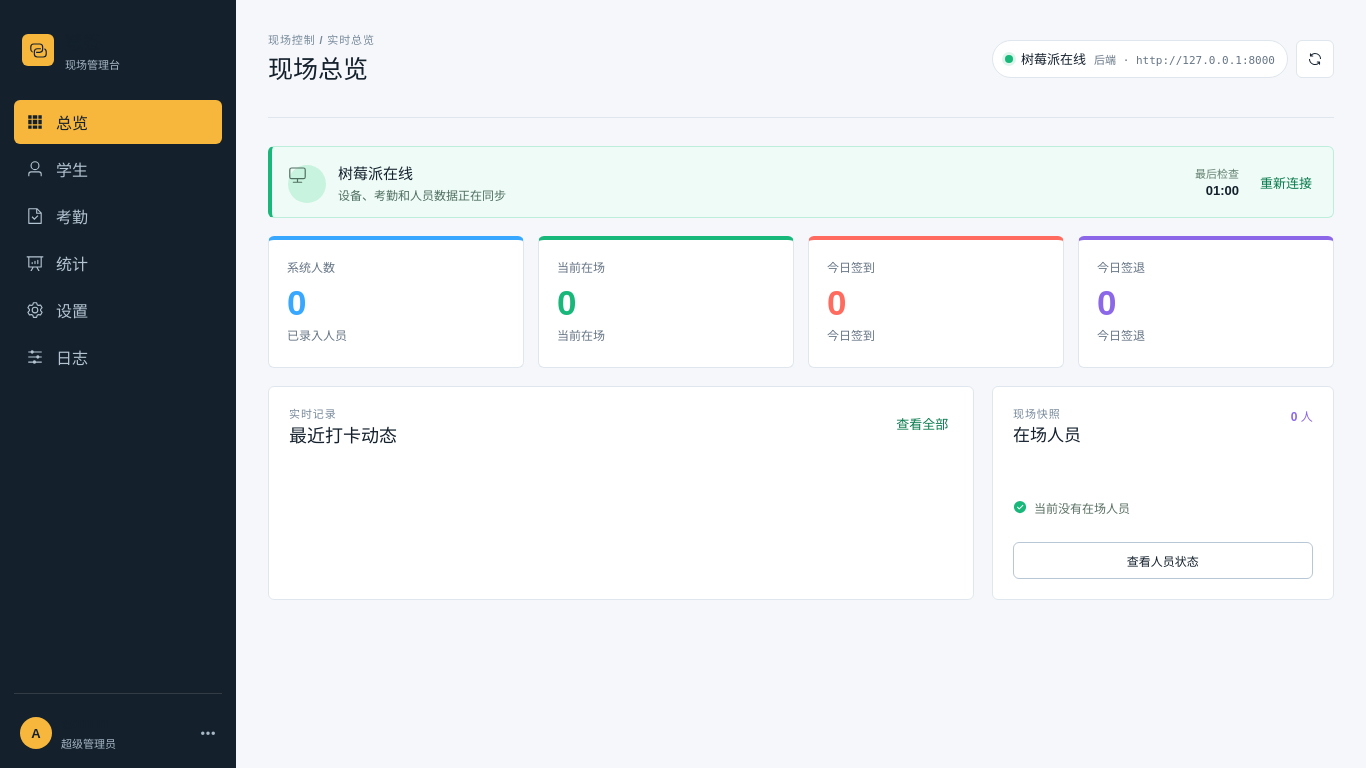
Test: HuiQian admin dashboard › shows Chinese activity labels and a clear empty state for unmatched filters
Click the button with class "nav-item" showing "日志": x=118, y=357 x1=14 y1=335 x2=222 y2=379
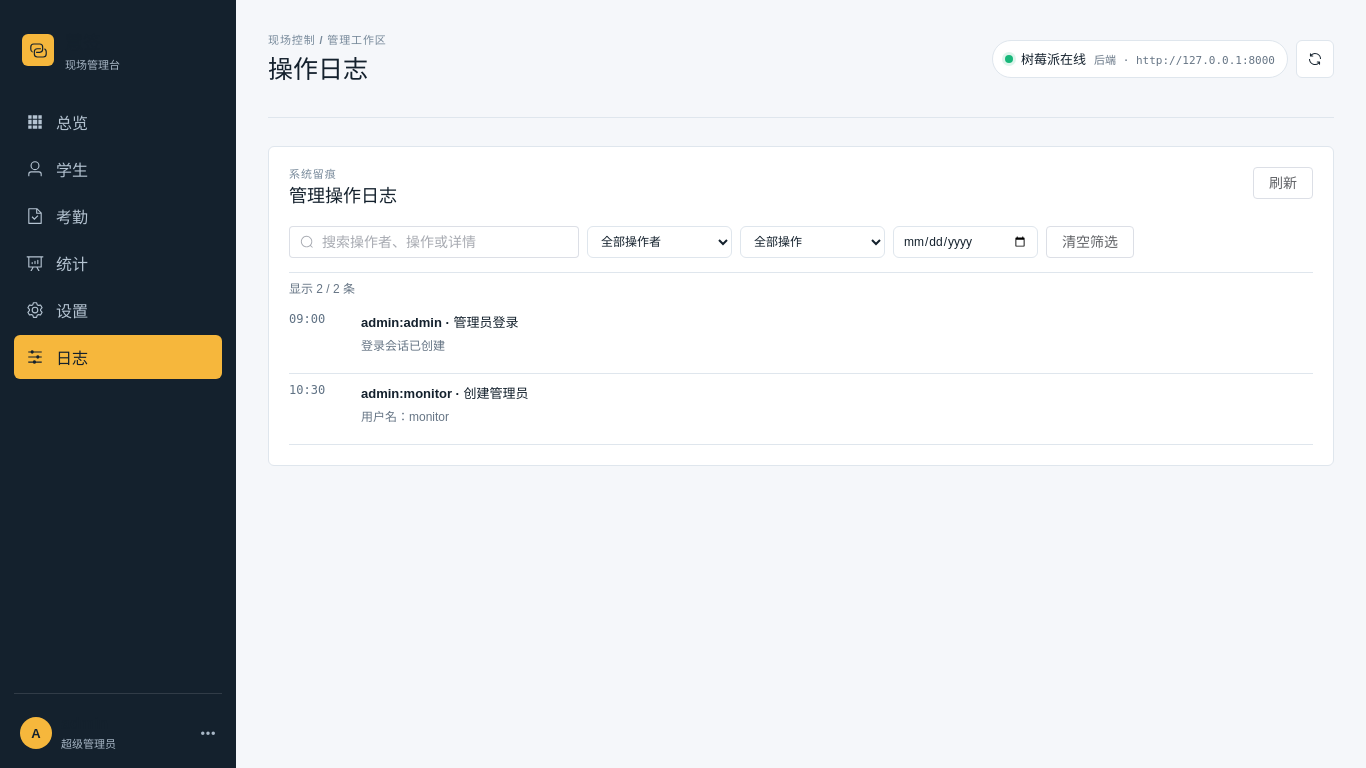
Expected: the text "管理员登录" is shown, x1=361 y1=315 x2=518 y2=330
Expected: the text "创建管理员" is shown, x1=361 y1=386 x2=528 y2=401
Expected: the text "用户名：monitor" is shown, x1=361 y1=410 x2=449 y2=424
In the field with test id "activity-keyword": x=445, y=242 x1=322 y1=227 x2=568 y2=257, type "not-found"
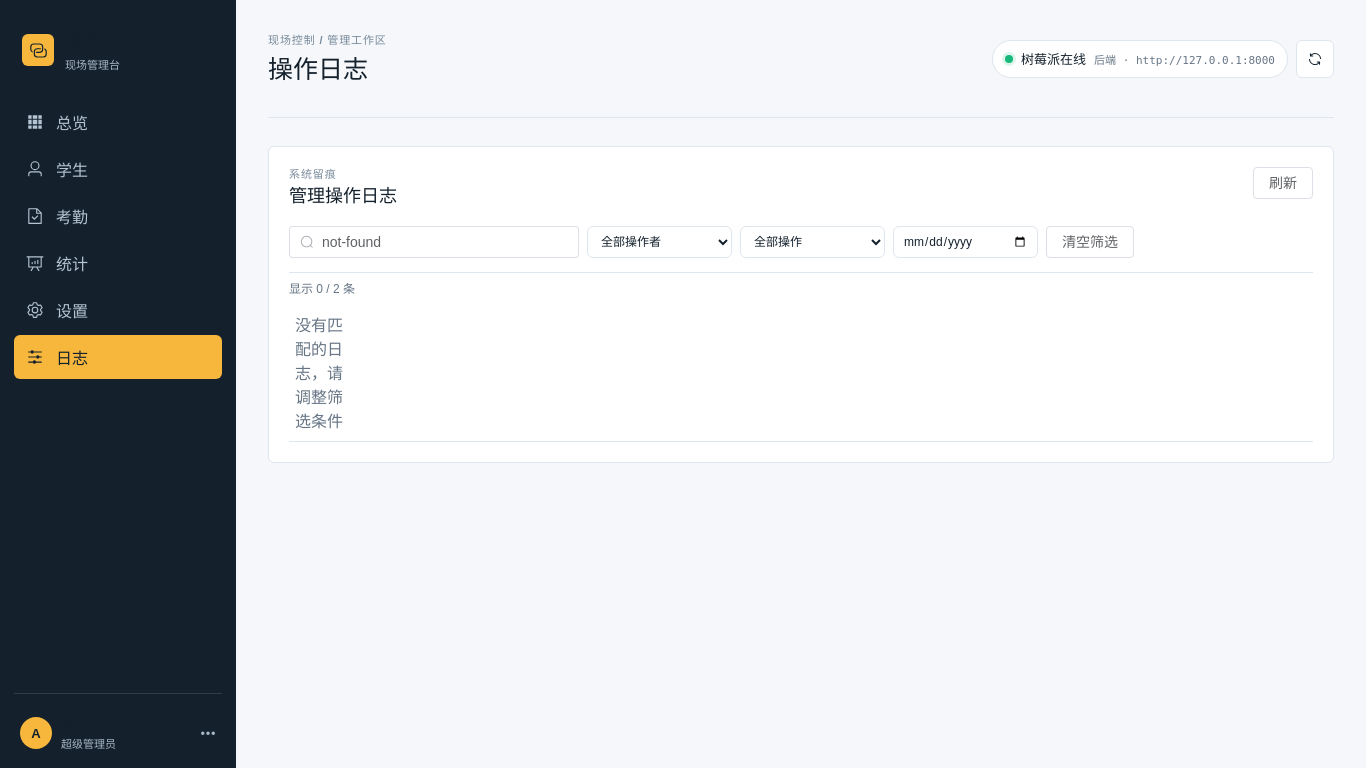
Expected: the list item with test id "activity-empty-filter" shows "没有匹配的日志", x1=295 y1=317 x2=343 y2=430
